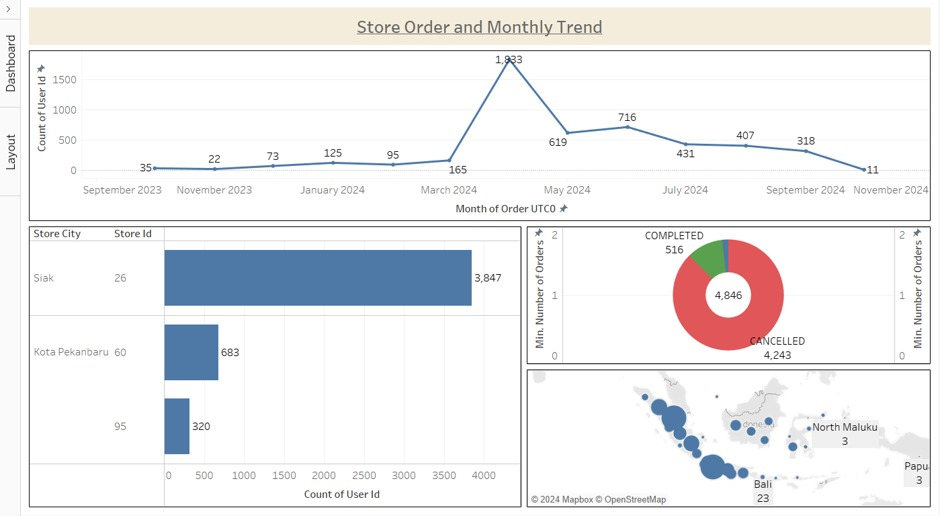

What the dashboard file says about the page in this screenshot:
{"tool":"tableau","page":{"name":"Store Order and Order Trend ","canvas":[1366,768],"ordinal":1},"visuals":[{"type":"text","box":[8,8,1350,64]},{"type":"worksheet","title":"Monthly Order Trend","mark":"Line","rows":["user_id"],"cols":["Calculation_4859946966648373249"],"box":[8,72,1350,262]},{"type":"worksheet","title":"Order Volume by Store","mark":"Automatic","rows":["store_city","store_id"],"cols":["user_id"],"box":[8,334,741,426]},{"type":"worksheet","title":"Order Status (# of orders)","mark":"Pie","rows":["Calculation_6625358022605914112","Calculation_6625358022605914112"],"box":[749,334,609,213]},{"type":"worksheet","title":"Map Distribution of User Orders","mark":"Automatic","box":[749,547,609,213]}]}

Visuals, with their boxes in screenshot pixels (x1, y1, x2, y2):
text: {"left": 30, "top": 5, "right": 925, "bottom": 48}
"Monthly Order Trend" worksheet (Line marks): {"left": 30, "top": 48, "right": 925, "bottom": 222}
"Order Volume by Store" worksheet: {"left": 30, "top": 222, "right": 521, "bottom": 504}
"Order Status (# of orders)" worksheet (Pie marks): {"left": 521, "top": 222, "right": 925, "bottom": 363}
"Map Distribution of User Orders" worksheet: {"left": 521, "top": 363, "right": 925, "bottom": 504}
